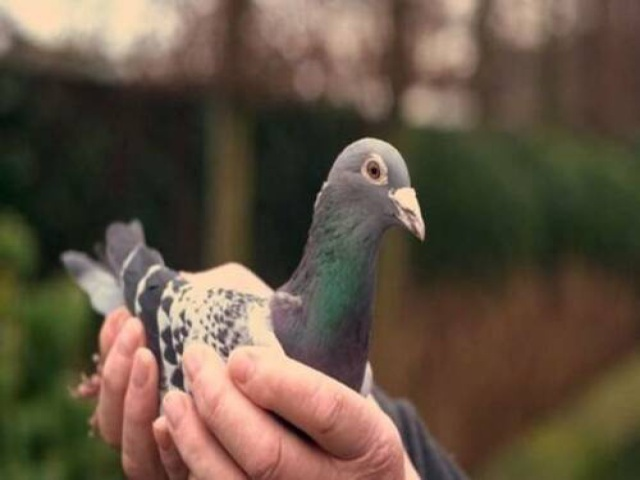Pigeon: (86, 123, 428, 378)
